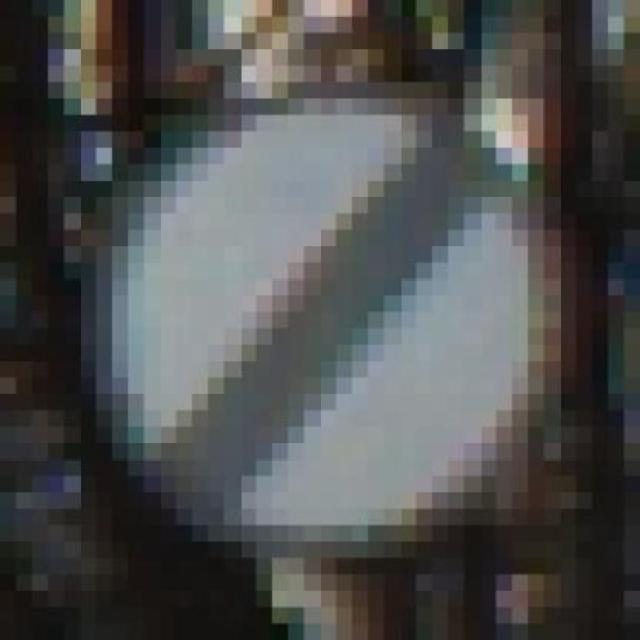End of all speed and passing limits: (79, 99, 576, 558)
